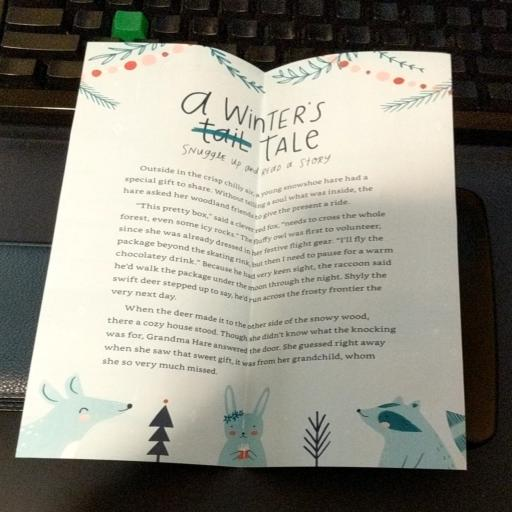paper: (9, 28, 512, 511)
